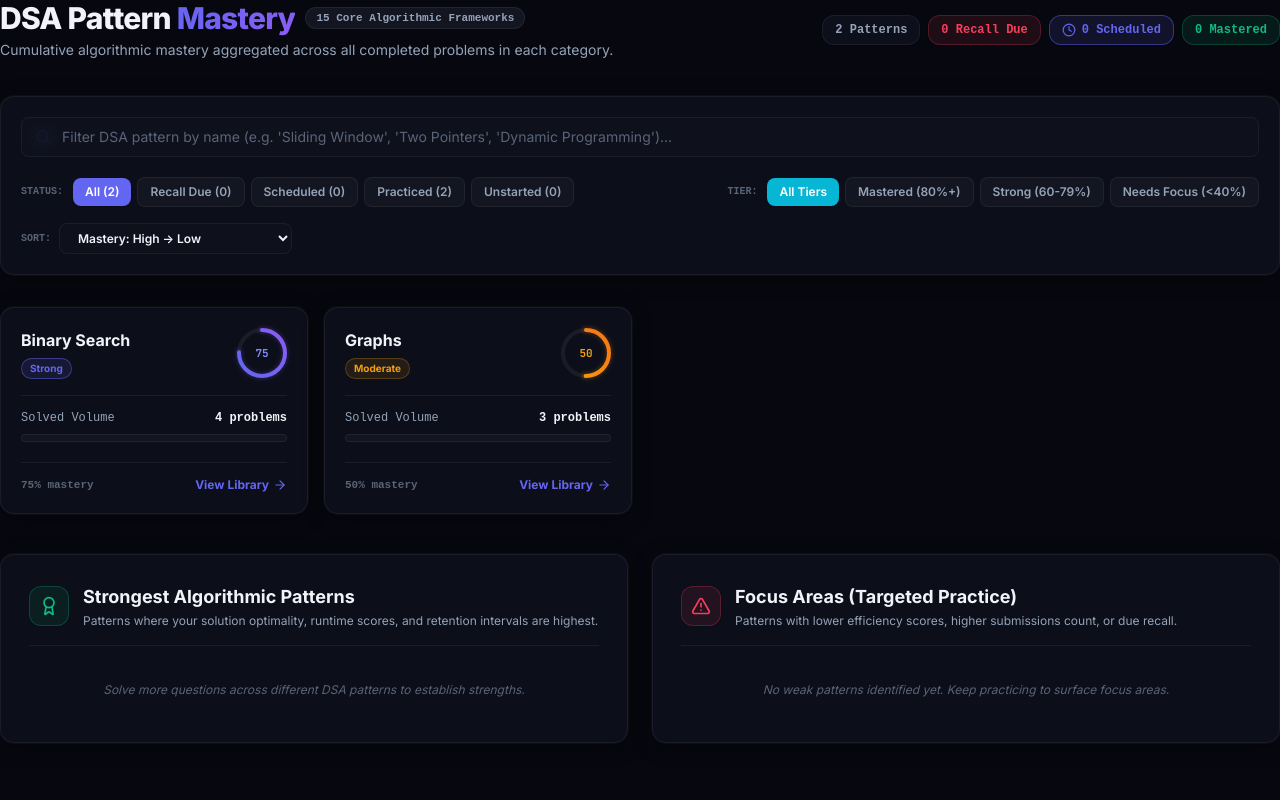
Scenario: Pattern Mastery Dashboard Flow › filters patterns using search bar
Check: the heading "Binary Search" is shown, box [21,330,130,350]
Check: the heading "Graphs" is shown, box [345,330,402,350]
Step 1. Replace the text in the field with placeholder "Filter DSA pattern by name" with "Binary" → (640, 137), box [21,117,1259,157]
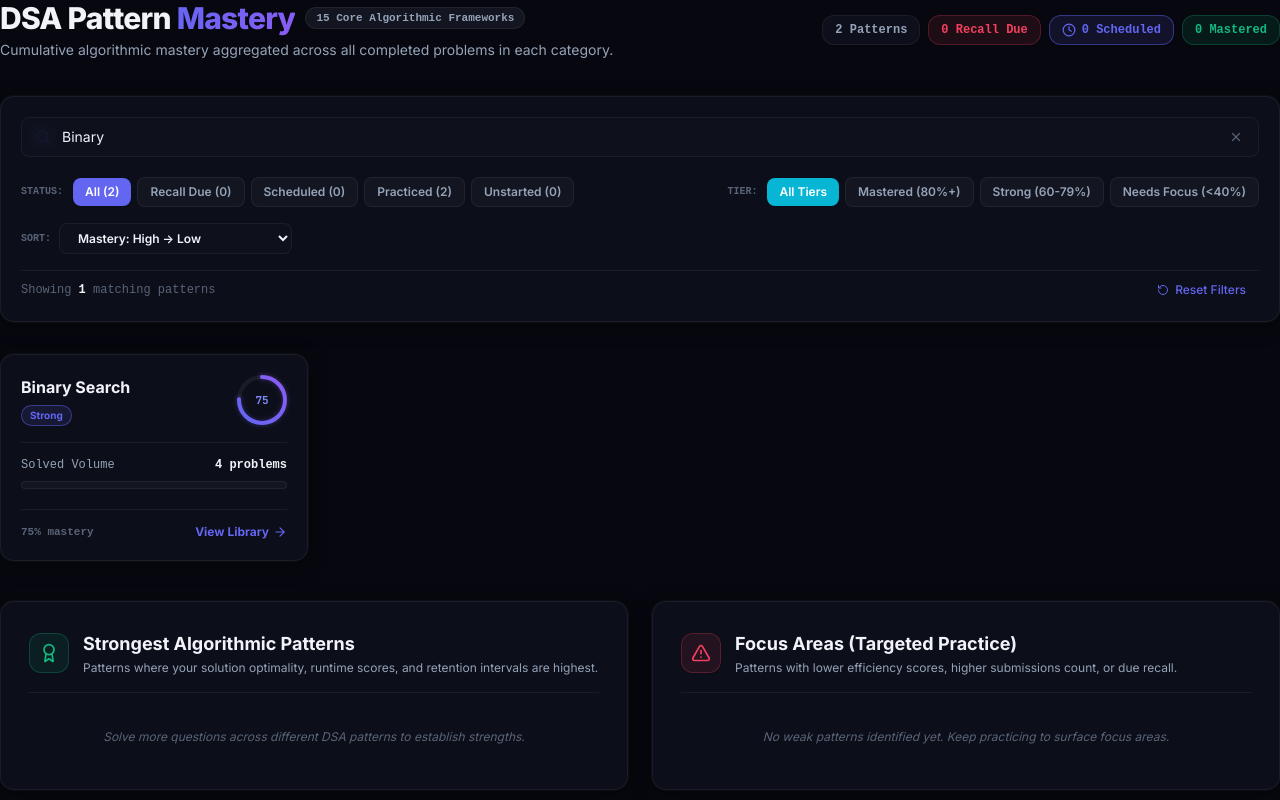
Check: the heading "Binary Search" is shown, box [21,377,130,397]
Check: the heading "Graphs" is gone
